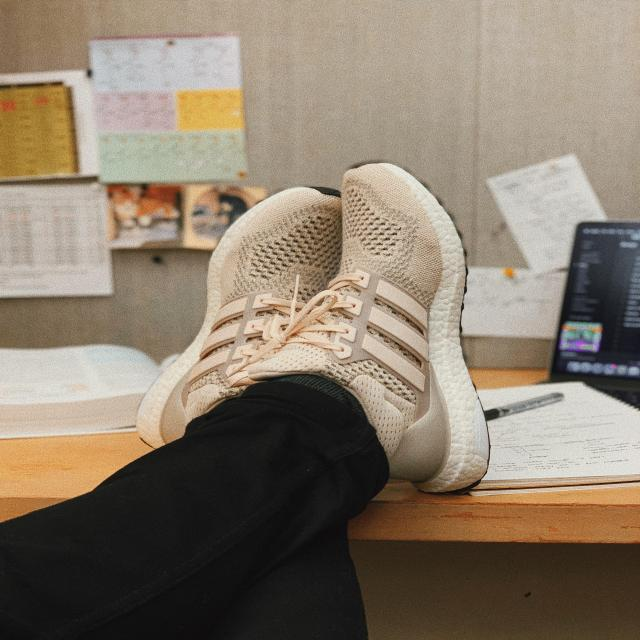shoes: (244, 161, 494, 495), (132, 184, 346, 456)
